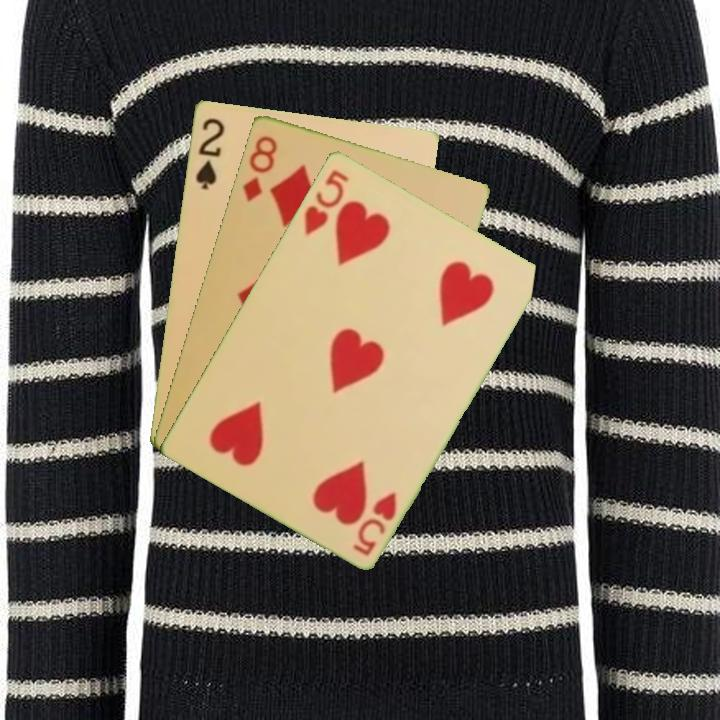2s: (191, 114, 227, 192)
5h: (300, 165, 352, 237), (349, 487, 400, 558)
8d: (239, 131, 280, 204)
